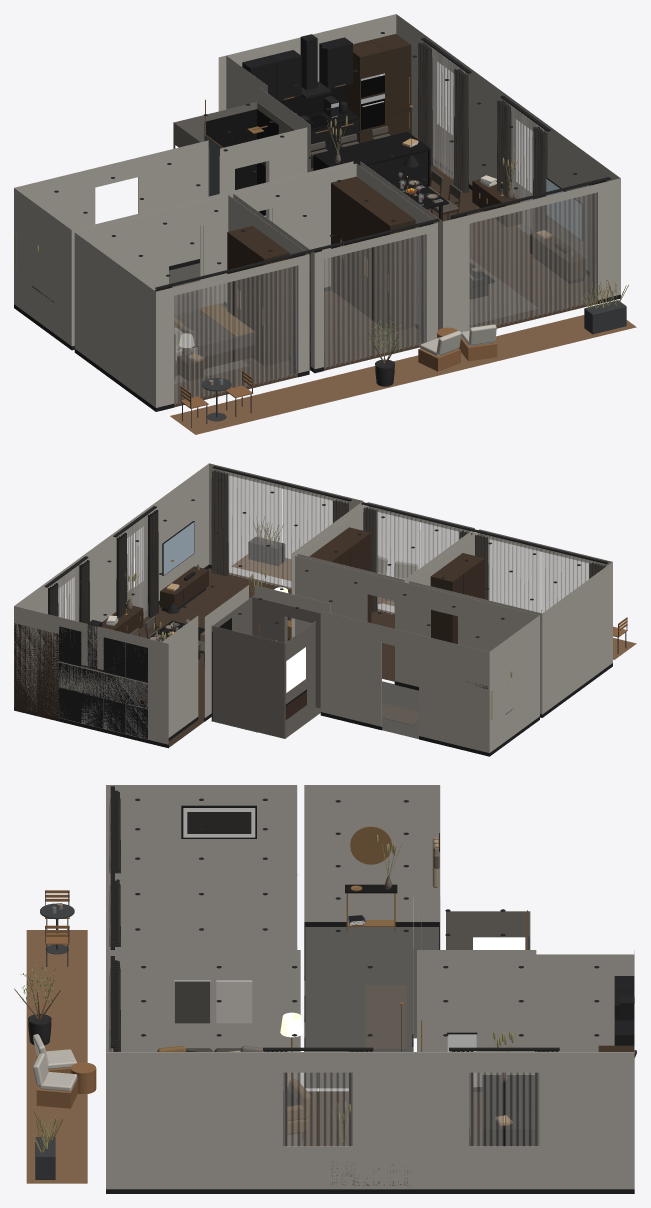
File: unit-1.C-noir.glb
3 renders of one model, top to bottom at view 1: azimuth 30°, elevation 25°; view 2: azimuth 150°, elevation 25°; view 3: azimuth 270°, elevation 25°, orthographic. The views are drawn at different scales.
Parts seen in each view (by area): view 1: int-wall, int-sheer, int-joineryTall, int-floor, int-curtain, int-deck, int-joinery, int-matteBlack, int-worktop, int-showerWall, int-rug, int-teak (+10 smaller); view 2: int-wall, int-sheer, int-bathWall, int-joineryTall, int-joinery, int-curtain, int-floor, int-matteBlack, int-splash, int-hallFloor, int-deck, int-tv (+5 smaller); view 3: int-wall, int-hallFloor, int-deck, int-sheer, int-joinery, int-worktop, int-rug, int-curtain, int-bathWall, int-floor, int-matteBlack, int-teak (+13 smaller).
Part boxes in pixels (box(x1,y1,x2,y2)): int-wall: box(14, 14, 620, 407); int-sheer: box(174, 47, 597, 404); int-joineryTall: box(227, 34, 585, 365); int-floor: box(174, 163, 597, 407); int-curtain: box(155, 42, 606, 374); int-deck: box(170, 315, 636, 434); int-joinery: box(14, 37, 620, 411); int-matteBlack: box(155, 34, 610, 299); int-worktop: box(32, 108, 494, 302); int-showerWall: box(204, 109, 278, 215); int-rug: box(169, 258, 538, 383); int-teak: box(180, 327, 497, 408); int-wall: box(14, 463, 612, 752); int-sheer: box(51, 472, 596, 621); int-bathWall: box(211, 596, 320, 738); int-joineryTall: box(14, 527, 484, 721); int-joinery: box(14, 564, 612, 756); int-curtain: box(48, 470, 605, 623); int-floor: box(139, 568, 394, 747); int-matteBlack: box(44, 466, 608, 740); int-splash: box(59, 662, 147, 708); int-hallFloor: box(382, 681, 418, 738); int-deck: box(231, 554, 636, 659); int-tv: box(163, 522, 194, 575); int-wall: box(106, 785, 634, 1189); int-hallFloor: box(304, 927, 438, 1088); int-deck: box(26, 930, 87, 1183); int-sheer: box(109, 798, 539, 1146); int-joinery: box(106, 922, 634, 1193); int-worktop: box(345, 884, 534, 1146); int-rug: box(287, 985, 406, 1145); int-curtain: box(113, 790, 558, 1146); int-bathWall: box(421, 911, 530, 949); int-floor: box(298, 1091, 481, 1146); int-matteBlack: box(110, 786, 634, 1050); int-teak: box(36, 890, 96, 1108).
Bounding box in the file's own units: 10.9 × 2.8 × 10.71.
